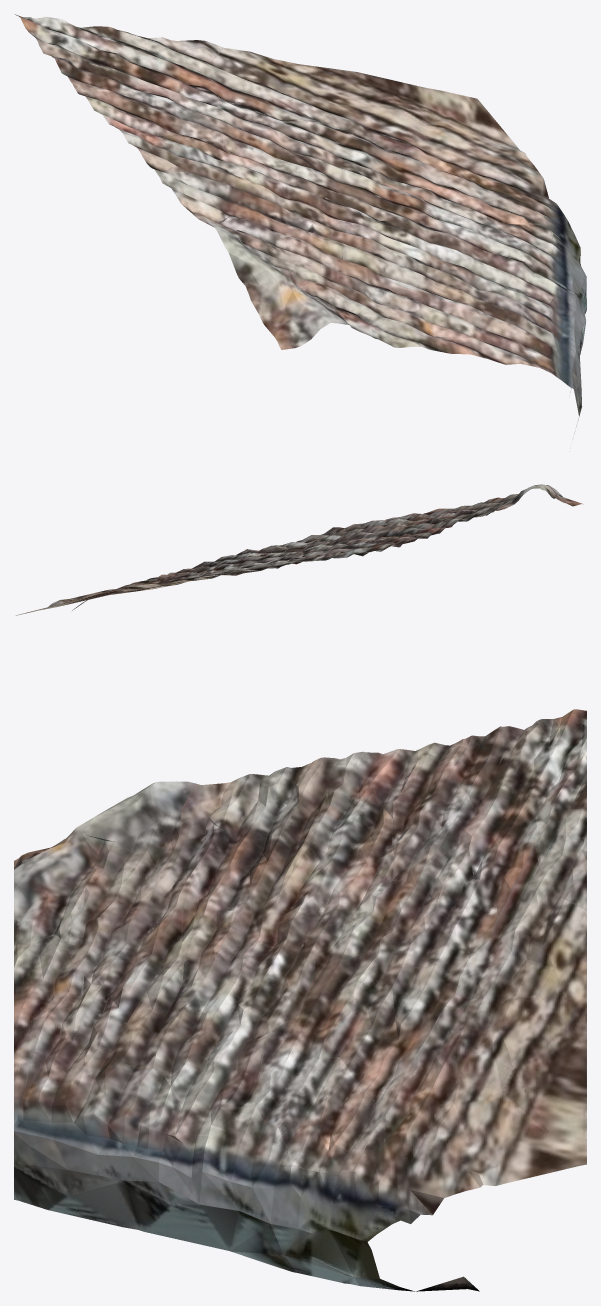
The picture shows the model from 3 angles, top to bottom: view 1: azimuth 30°, elevation 25°; view 2: azimuth 150°, elevation 25°; view 3: azimuth 270°, elevation 25°; orthographic projection. The views are drawn at different scales.
Size of the model in its own units: 3.35 by 2.19 by 3.35.
3 materials, 3 textured.
